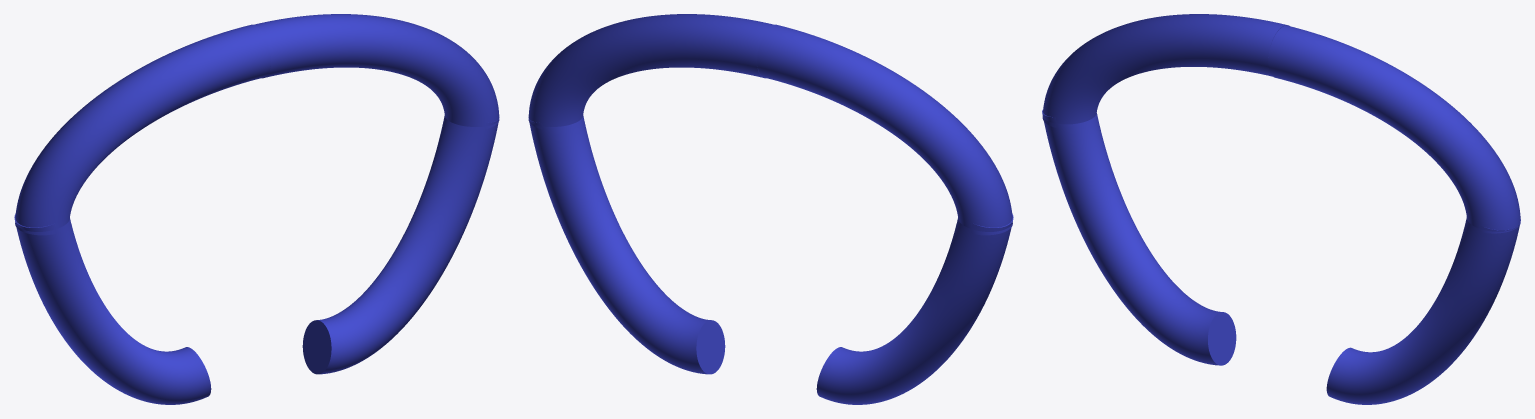
Rendered from KneesHandler.fbx.
3 views of the same model, side by side, from view 1: azimuth 30°, elevation 25°; view 2: azimuth 150°, elevation 25°; view 3: azimuth 330°, elevation 25° (orthographic).
Visible parts, largest first — view 1: node_id71 (×4); view 2: node_id71 (×4); view 3: node_id71 (×4).
Part boxes in pixels (x1,y1,x2,y2): node_id71 (×4): [14, 14, 499, 404]; node_id71 (×4): [528, 14, 1013, 404]; node_id71 (×4): [1042, 14, 1520, 404].
Bounding box in the file's own units: 0.1952 × 0.1411 × 0.0192.
